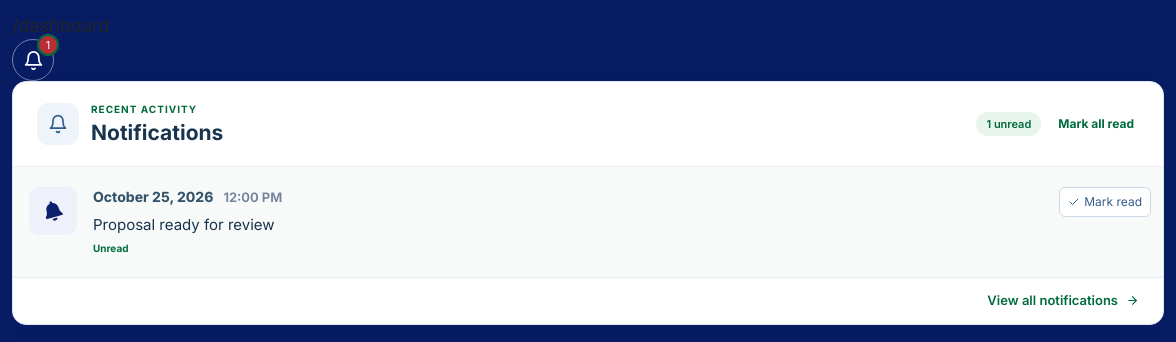
Test: opening a notification marks it read and follows its application link
Click the element showing "October 25, 2026 12:00 PM": (188, 197) [93,188,282,205]
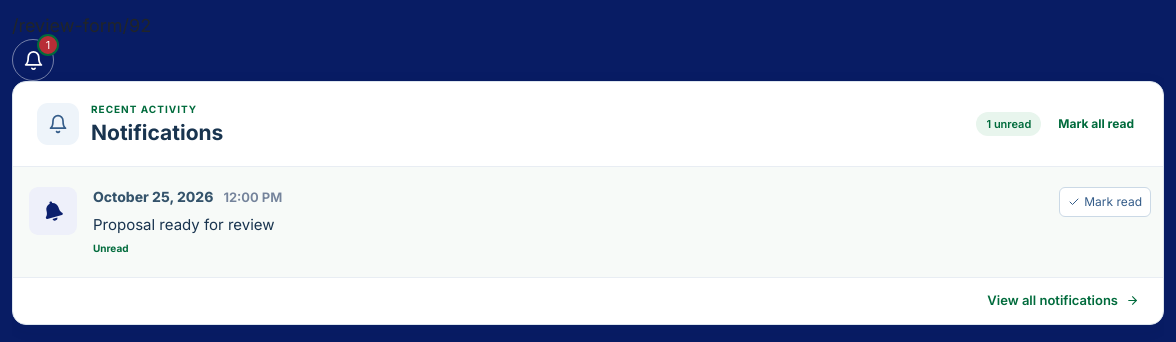
Expected: the text with id "current-path" reads "/review-form/92", [12,15,151,36]
